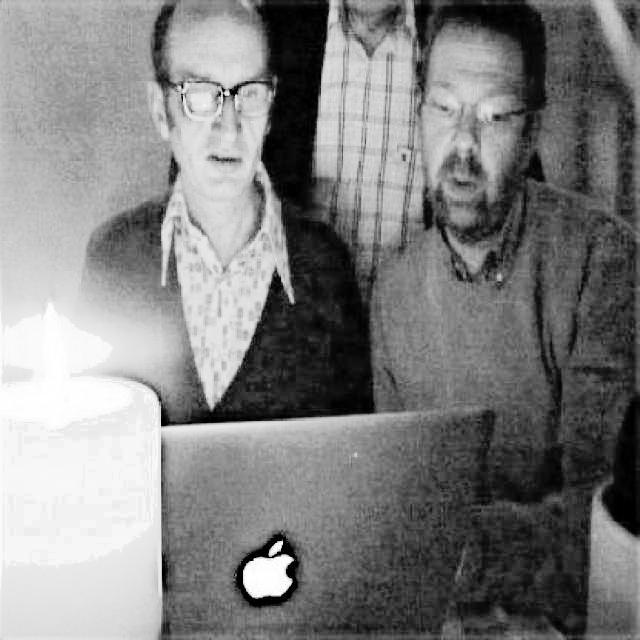Person: (70, 0, 372, 420), (375, 0, 640, 466)
